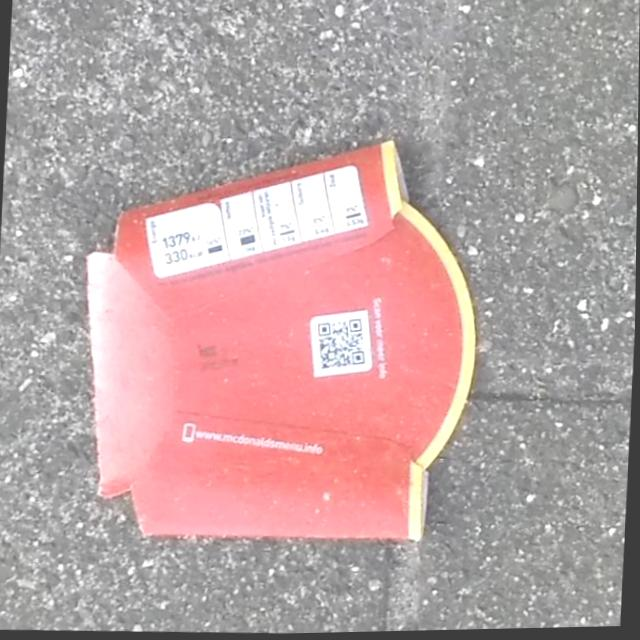Paper: (68, 124, 488, 554)
